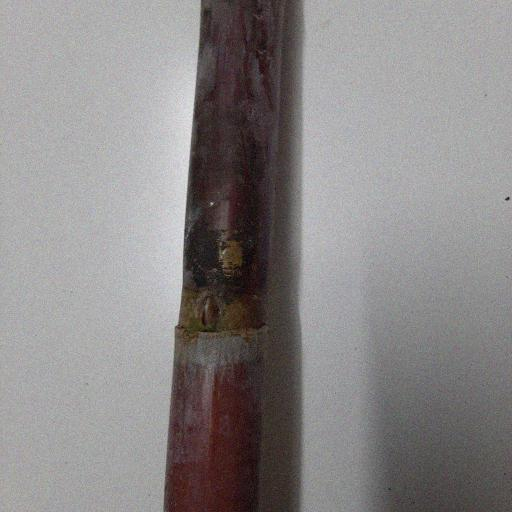Bud: (195, 292, 221, 332)
